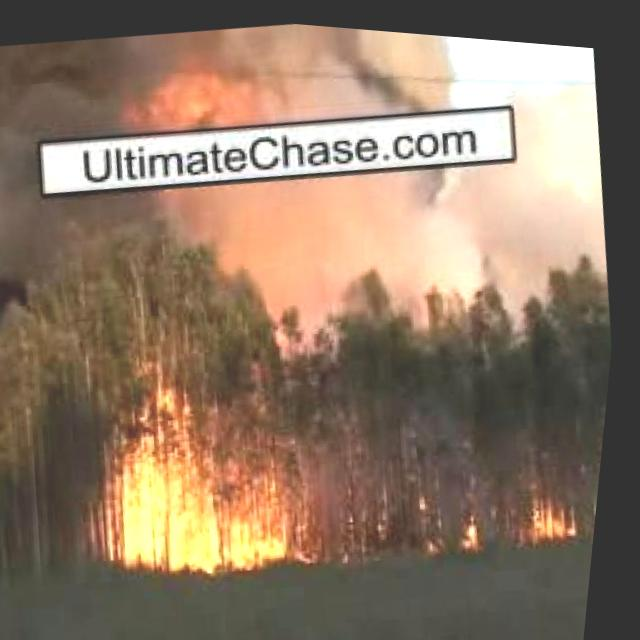helmet: (82, 358, 326, 592), (414, 472, 495, 552), (524, 482, 596, 538)
no_helmet: (195, 122, 614, 353), (0, 0, 469, 180)
